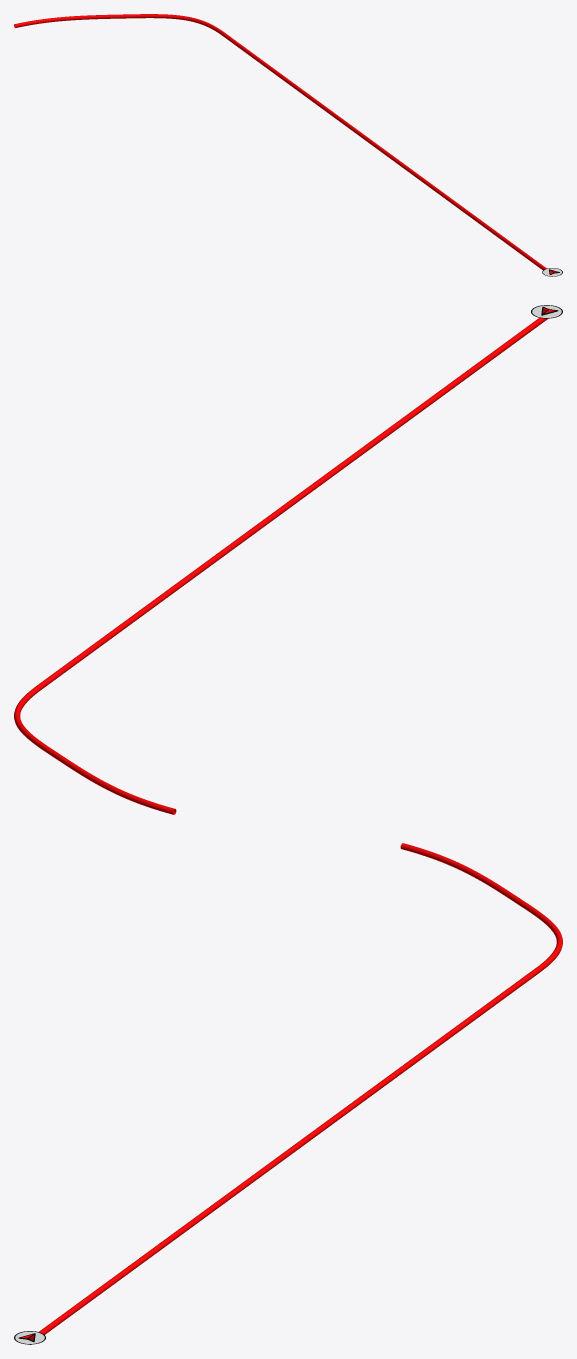
File: route_e9ee970d-922a-416f-b8de-a1128bfa3fb5_de_single.glb
3 views of the same model, one above another, from view 1: azimuth 30°, elevation 25°; view 2: azimuth 150°, elevation 25°; view 3: azimuth 330°, elevation 25° (orthographic). The views are drawn at different scales.
Parts seen in each view (by area): view 1: Endoskopie.017; view 2: Endoskopie.017; view 3: Endoskopie.017.
Boxes of the visible parts, box(x1,y1,x2,y2) form: Endoskopie.017: box(14, 14, 552, 276); Endoskopie.017: box(14, 318, 547, 814); Endoskopie.017: box(30, 843, 562, 1344).
Bounding box in the file's own units: 3.56 × 0.109 × 15.51.
